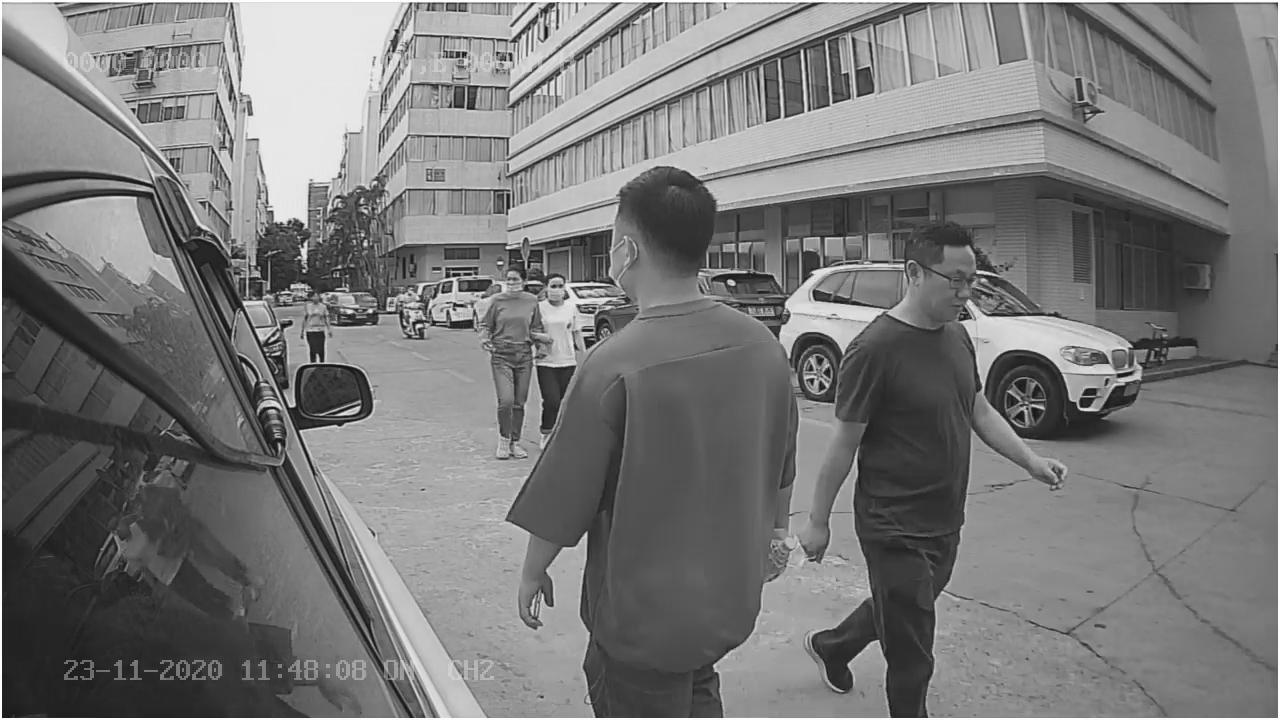person: (503, 161, 799, 633)
